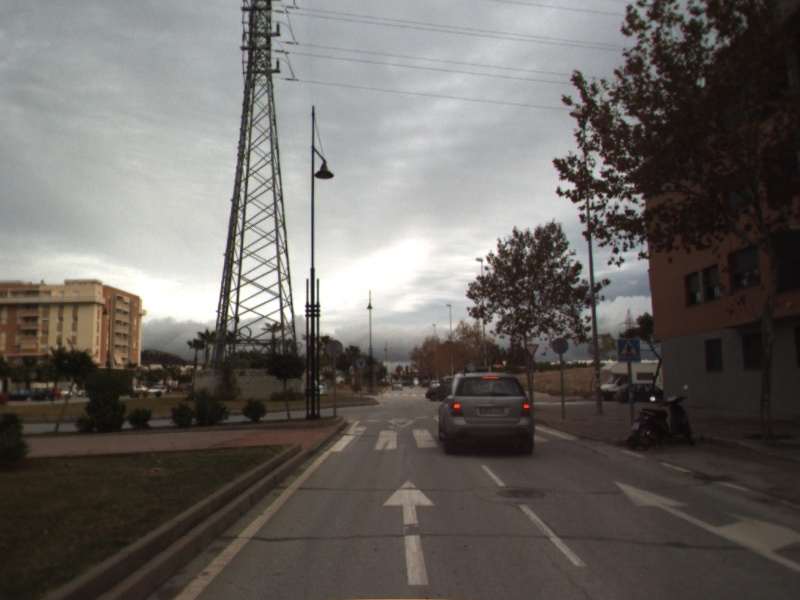STRAIGHT: (380, 477, 438, 586)
STRAIGHT_RIGHT: (612, 479, 800, 573)
